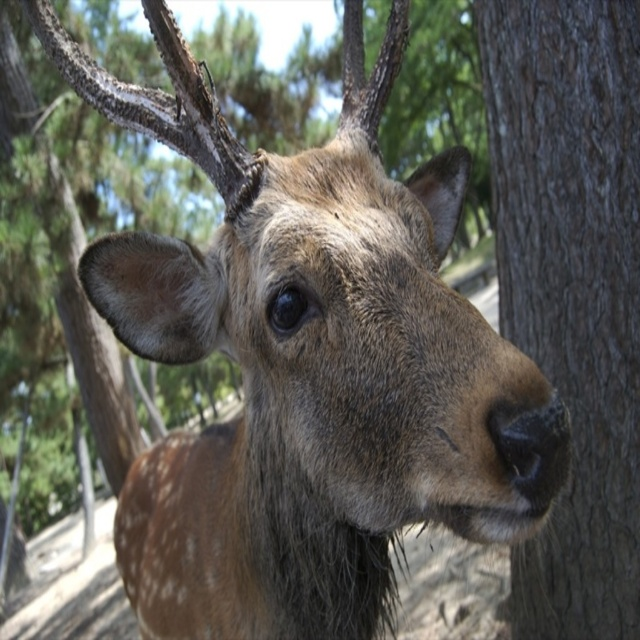Deer: (22, 0, 574, 639)
